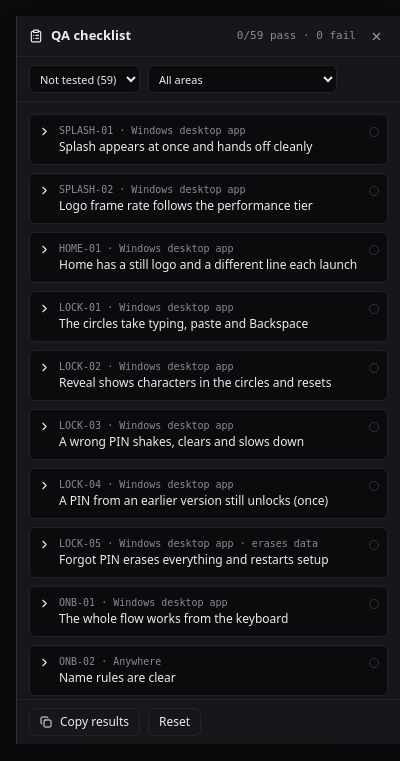
Test: QaPanel › shows untested items first and records pass, fail and skip
The image size is (400, 761).
Click the button "Splash appears at once" at (208, 140), box [30, 115, 387, 164]
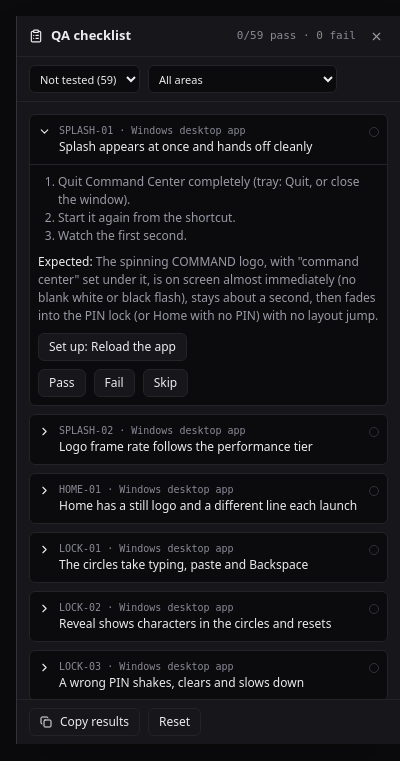
Expected: the list item "Quit Command Center completely" is shown, [58, 173, 360, 208]
Click the button "Pass" at (62, 383), box [38, 369, 86, 397]
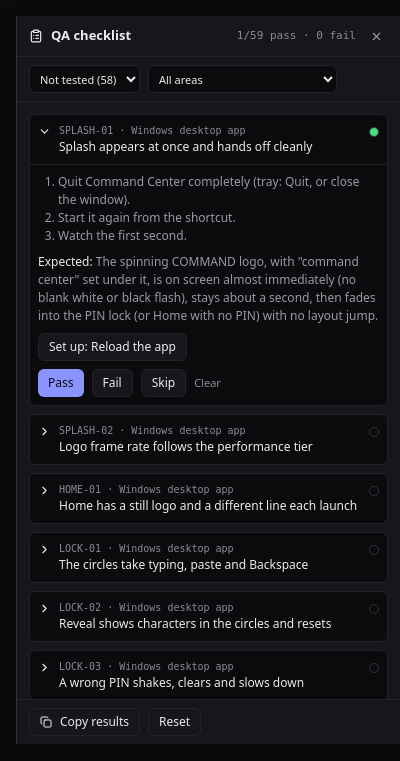
Expected: the list item with test id "qa-item-SPLASH-01" is shown, [29, 114, 388, 406]
Click the button "Logo frame rate" at (208, 440), box [30, 415, 387, 464]
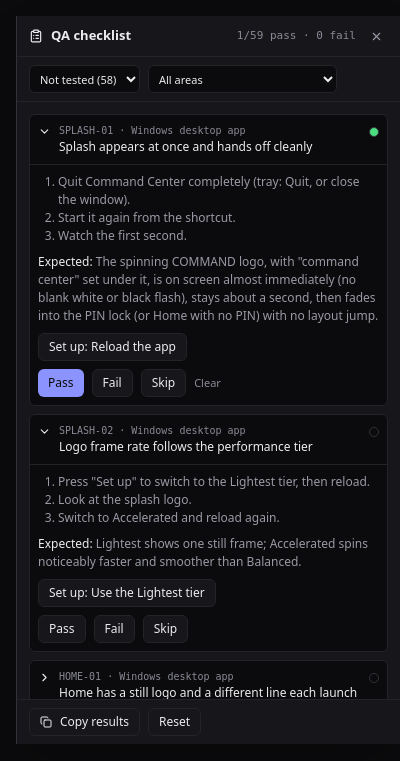
Click the button "Skip" below "Switch to Accelerated and reload again." at (165, 629), box [143, 615, 188, 643]
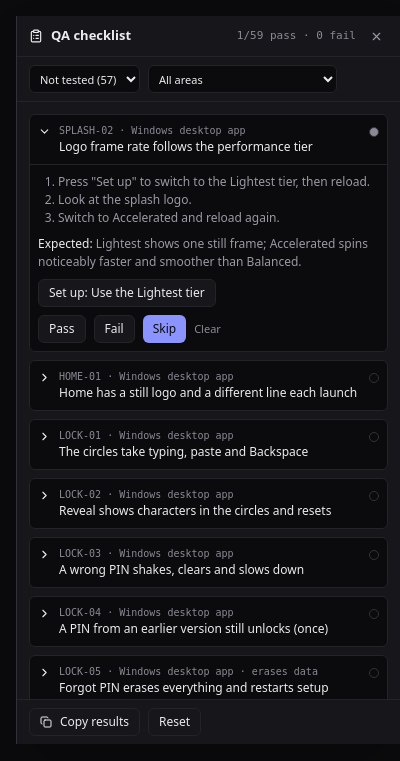
Expected: the list item with test id "qa-item-SPLASH-01" is gone
